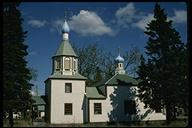church: (44, 8, 140, 122)
cloud: (71, 5, 135, 38)
sky: (27, 4, 54, 53)
tree: (135, 3, 192, 125), (1, 1, 35, 126)
